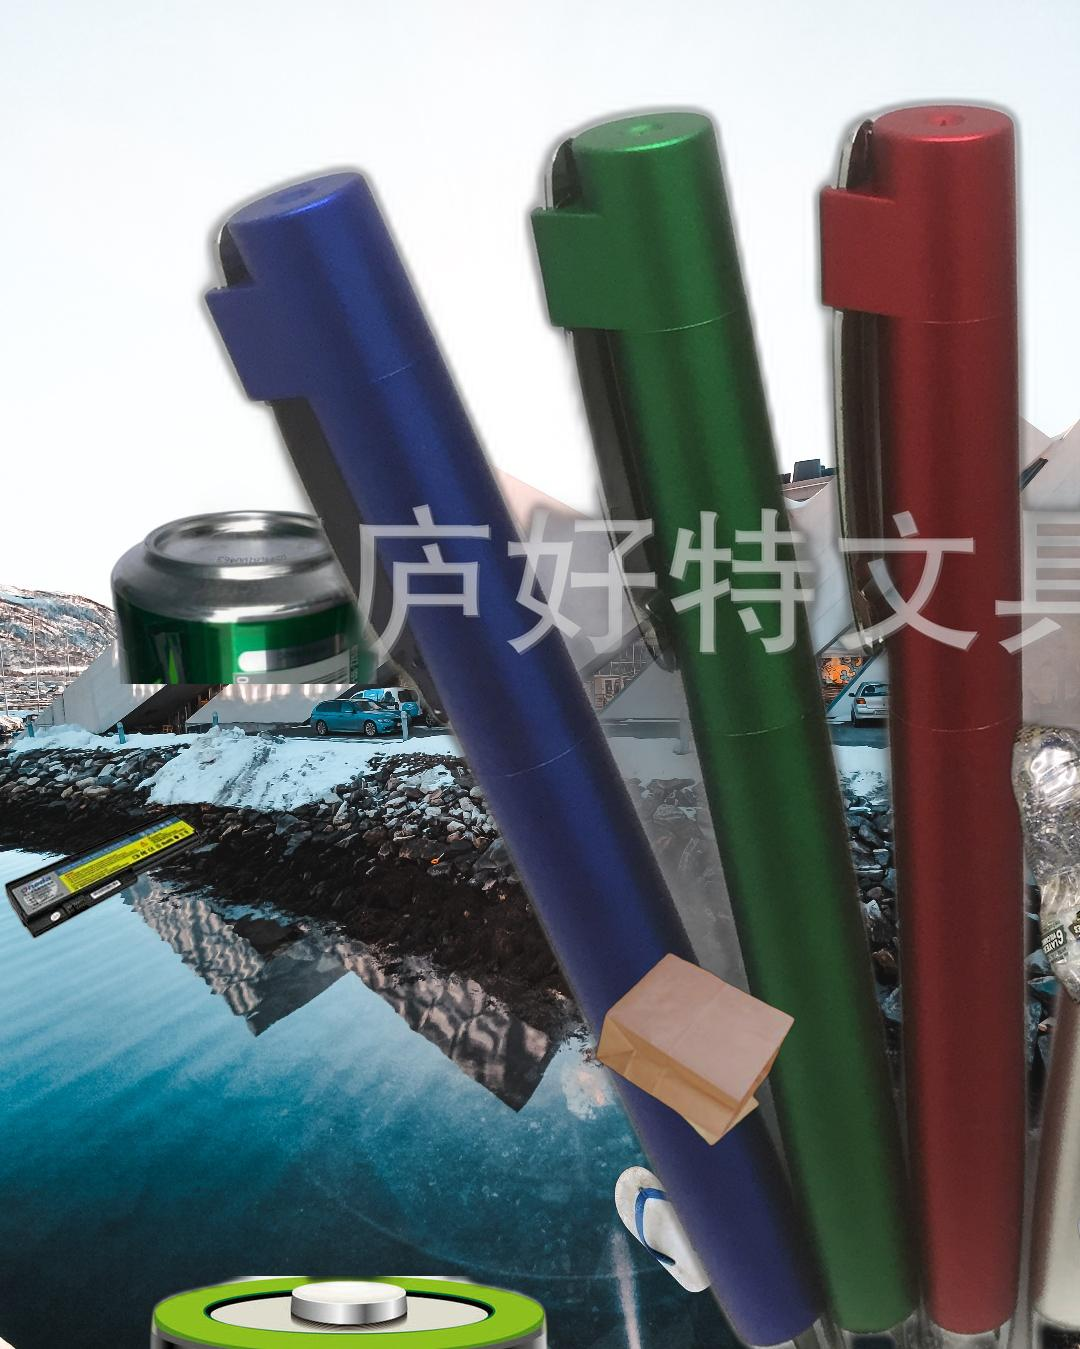battery: (143, 1276, 553, 1349), (4, 809, 204, 941), (1075, 1203, 1080, 1335)
metal-cans: (106, 507, 385, 684)
paper-bag: (594, 950, 798, 1149)
penholder: (167, 77, 1080, 1349)
plastic-bottles: (1007, 714, 1080, 1050)
shoes: (611, 1129, 779, 1296)
